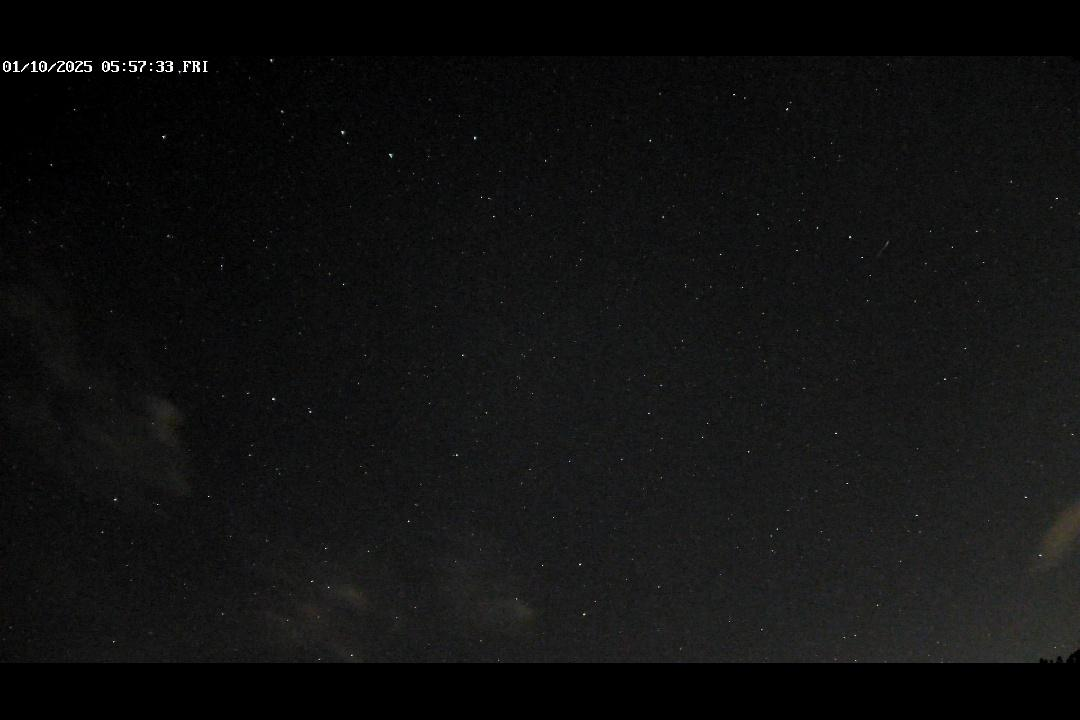Plane: (875, 234, 896, 265)
